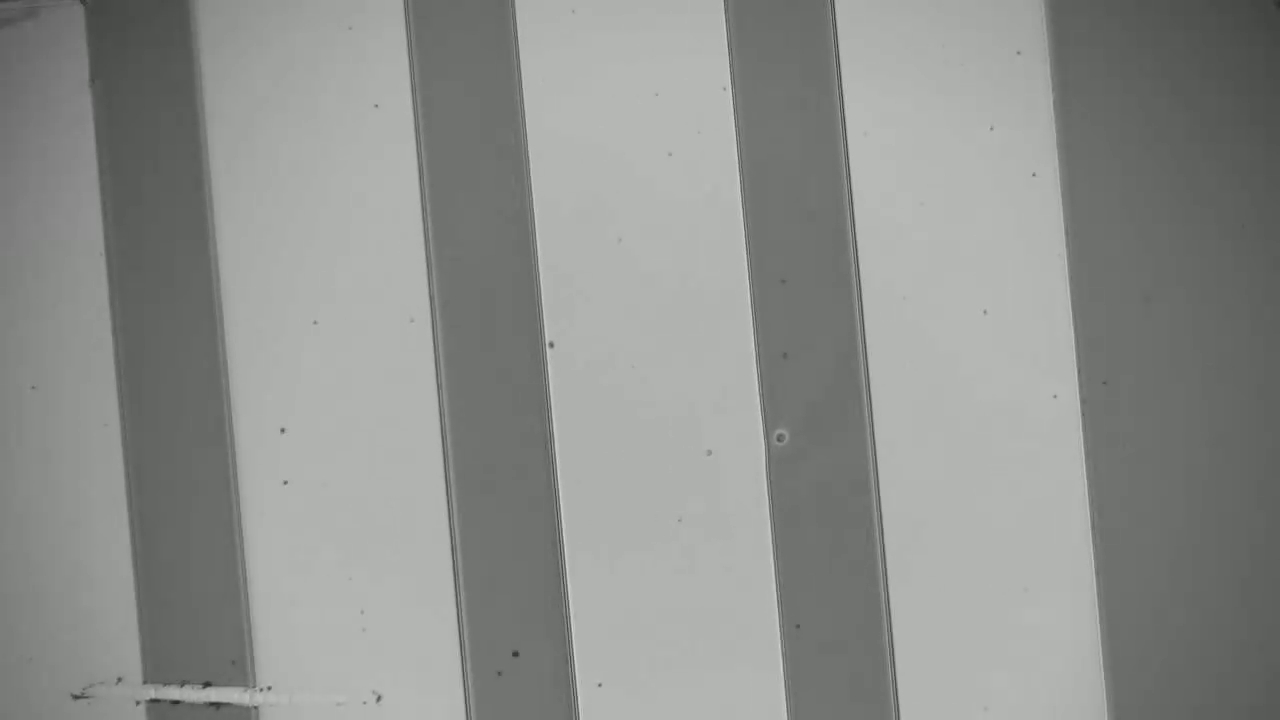Short_circuit: (111, 659, 287, 720)
